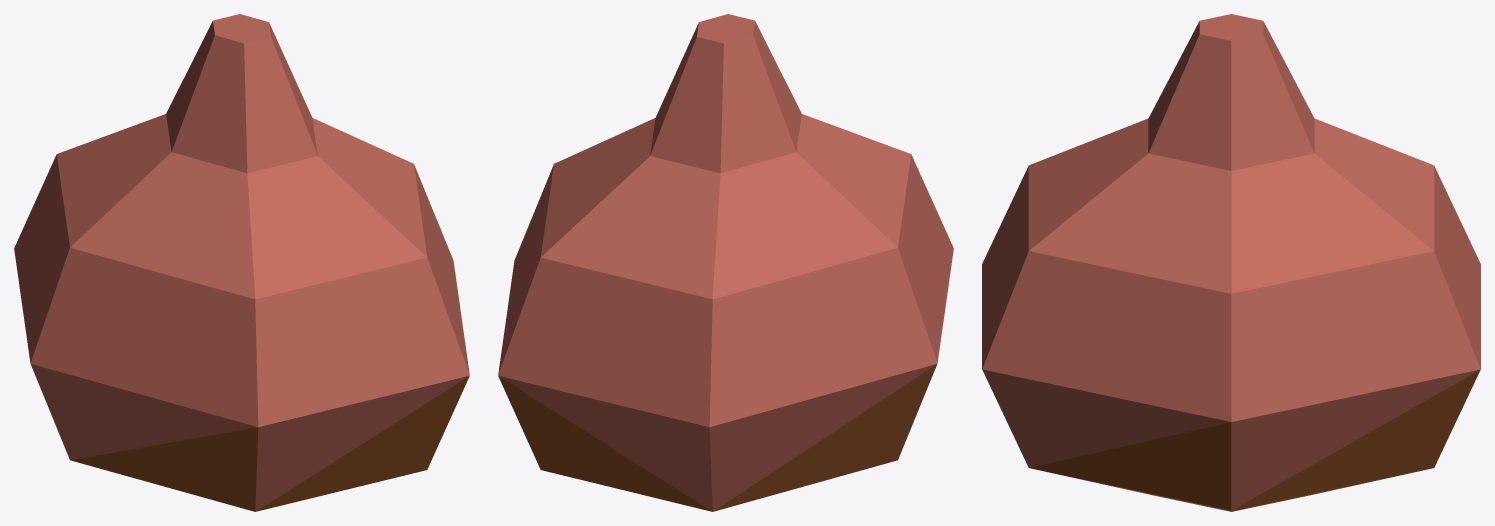
File: onion.glb
3 views of the same model, side by side, from view 1: azimuth 30°, elevation 25°; view 2: azimuth 150°, elevation 25°; view 3: azimuth 270°, elevation 25° (orthographic). The views are drawn at different scales.
Size of the model in its own units: 1 by 1 by 1.
